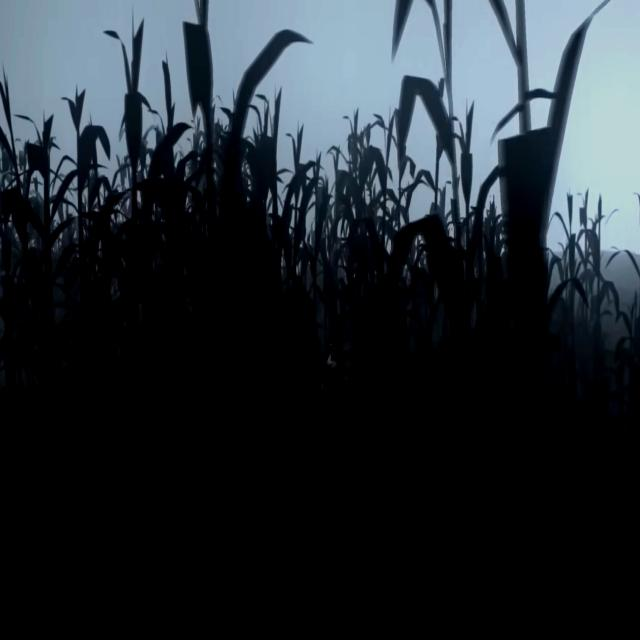boy: (322, 344, 348, 391)
